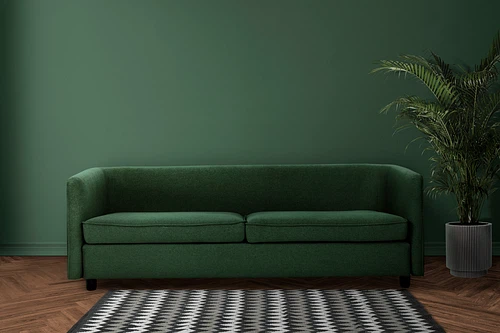large plant: (369, 35, 500, 281)
sofa: (62, 163, 427, 291)
